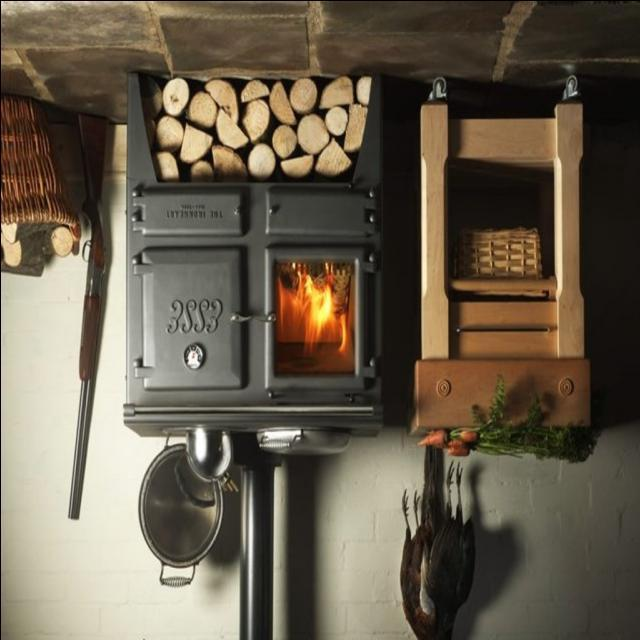Fire: (284, 264, 350, 356)
